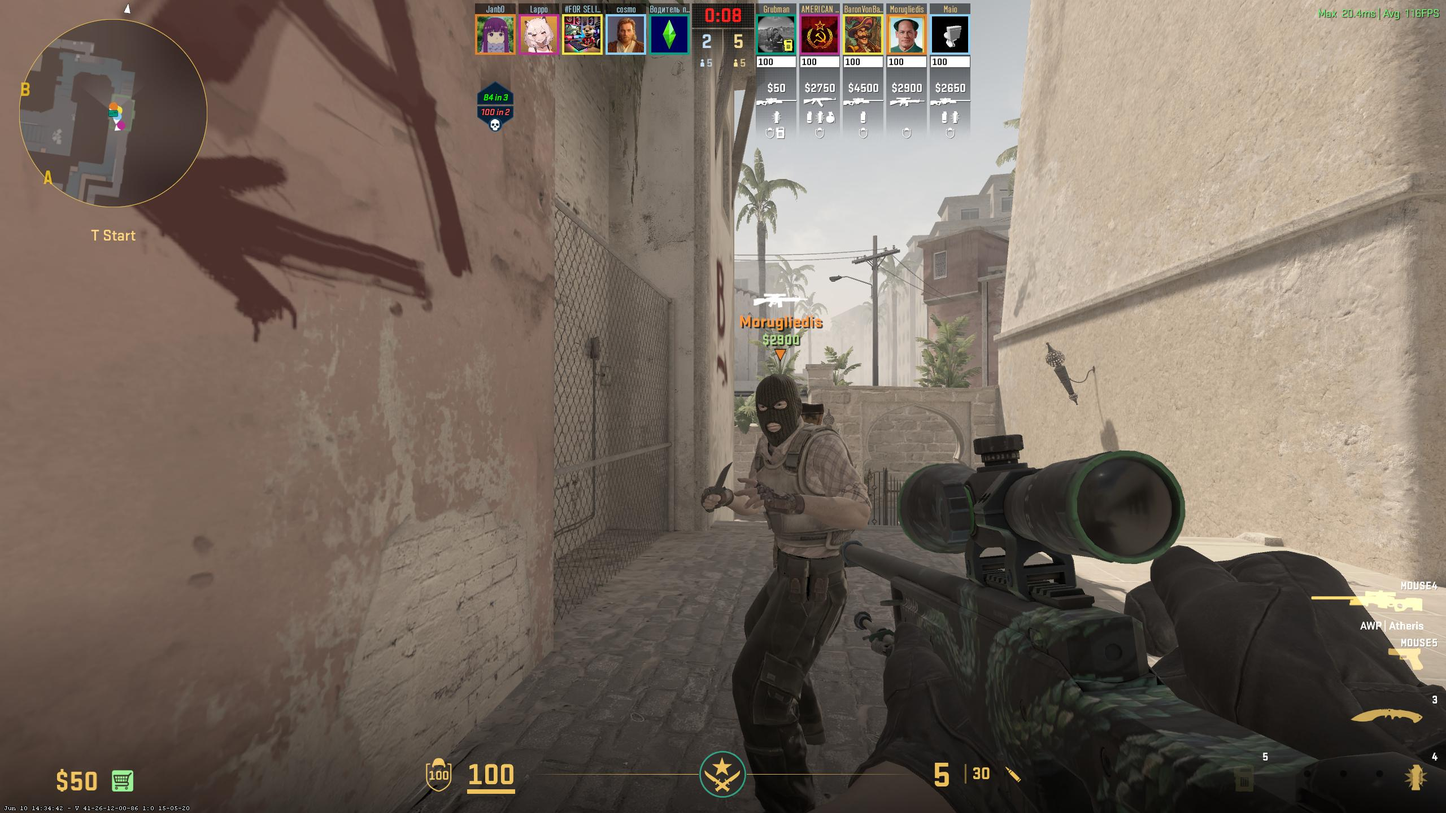Terrorist: (716, 393, 859, 808)
